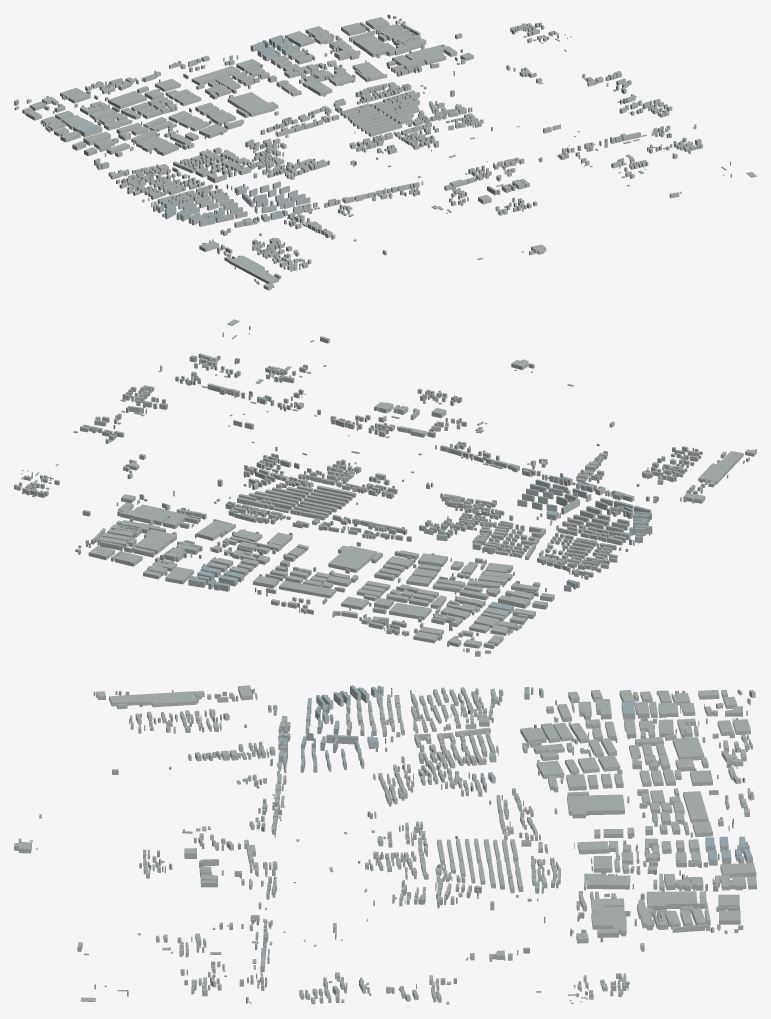
Rendered from far.glb.
The picture shows the model from 3 angles, top to bottom: view 1: azimuth 30°, elevation 25°; view 2: azimuth 150°, elevation 25°; view 3: azimuth 270°, elevation 25°; orthographic projection. The views are drawn at different scales.
Bounding box in the file's own units: 2127 × 26.7 × 2120.
